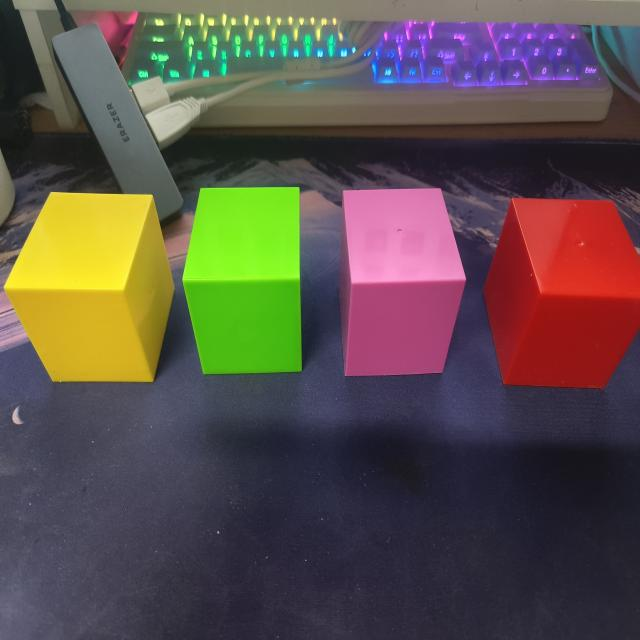green: (182, 187, 302, 376)
pink: (343, 189, 466, 379)
red: (484, 198, 640, 392)
yellow: (4, 191, 175, 385)
